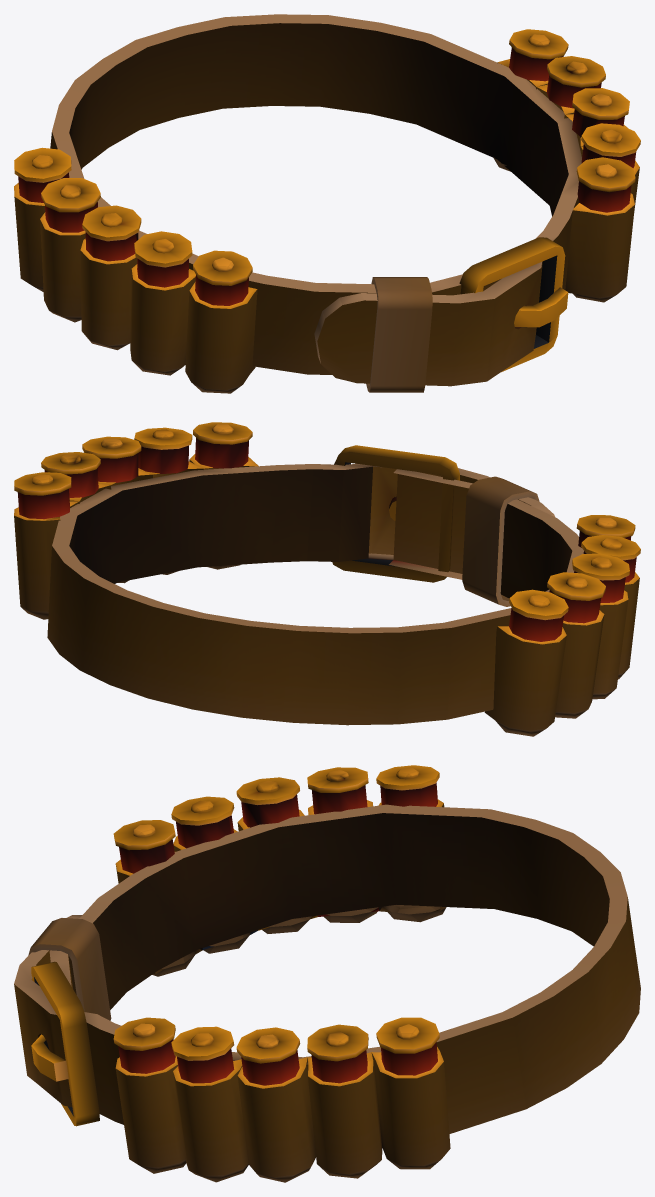
File: Belt_Bandolier.gltf
3 views of the same model, one above another, from view 1: azimuth 30°, elevation 25°; view 2: azimuth 150°, elevation 25°; view 3: azimuth 270°, elevation 25° (orthographic). The views are drawn at different scales.
Visible parts, largest first — view 1: Belt_Bandolier; view 2: Belt_Bandolier; view 3: Belt_Bandolier.
Part boxes in pixels (box(x1,y1,x2,y2)): Belt_Bandolier: box(14, 14, 640, 393); Belt_Bandolier: box(14, 422, 640, 736); Belt_Bandolier: box(14, 765, 640, 1182).
Size of the model in its own units: 0.9426 by 0.2693 by 0.8621.
Materials: 2 (2 with a texture image).
